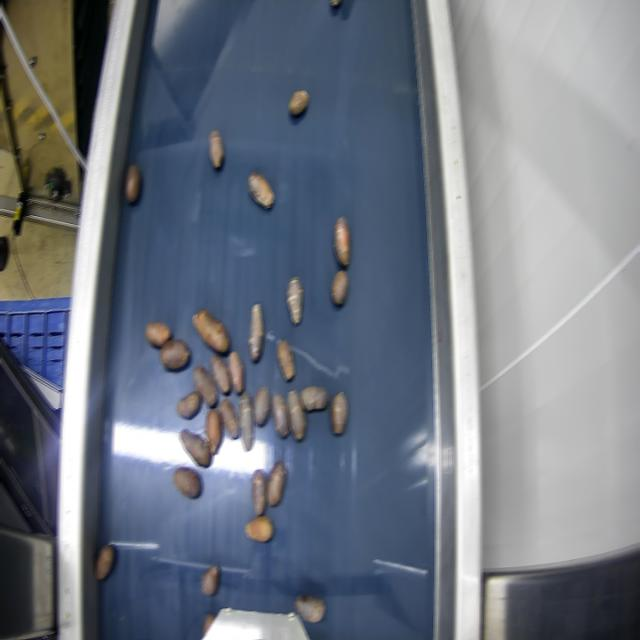Baby Potato: (193, 308, 230, 352), (179, 428, 211, 466), (159, 338, 191, 370), (193, 365, 217, 407), (294, 592, 326, 623), (287, 388, 306, 440), (248, 170, 274, 208), (173, 466, 203, 498), (266, 460, 286, 508), (210, 353, 232, 395), (270, 391, 290, 437), (204, 406, 223, 454), (248, 303, 264, 360), (219, 397, 240, 440), (333, 214, 350, 267), (238, 396, 254, 451), (329, 389, 348, 435), (244, 514, 274, 542), (94, 542, 115, 582), (251, 468, 268, 516), (276, 338, 295, 380), (299, 385, 329, 411), (228, 350, 245, 395), (252, 384, 270, 426), (124, 162, 142, 204), (287, 276, 303, 322), (176, 391, 202, 419), (145, 320, 171, 348), (331, 268, 349, 306), (208, 129, 224, 169), (200, 564, 220, 596), (288, 89, 309, 116), (203, 614, 214, 635)
